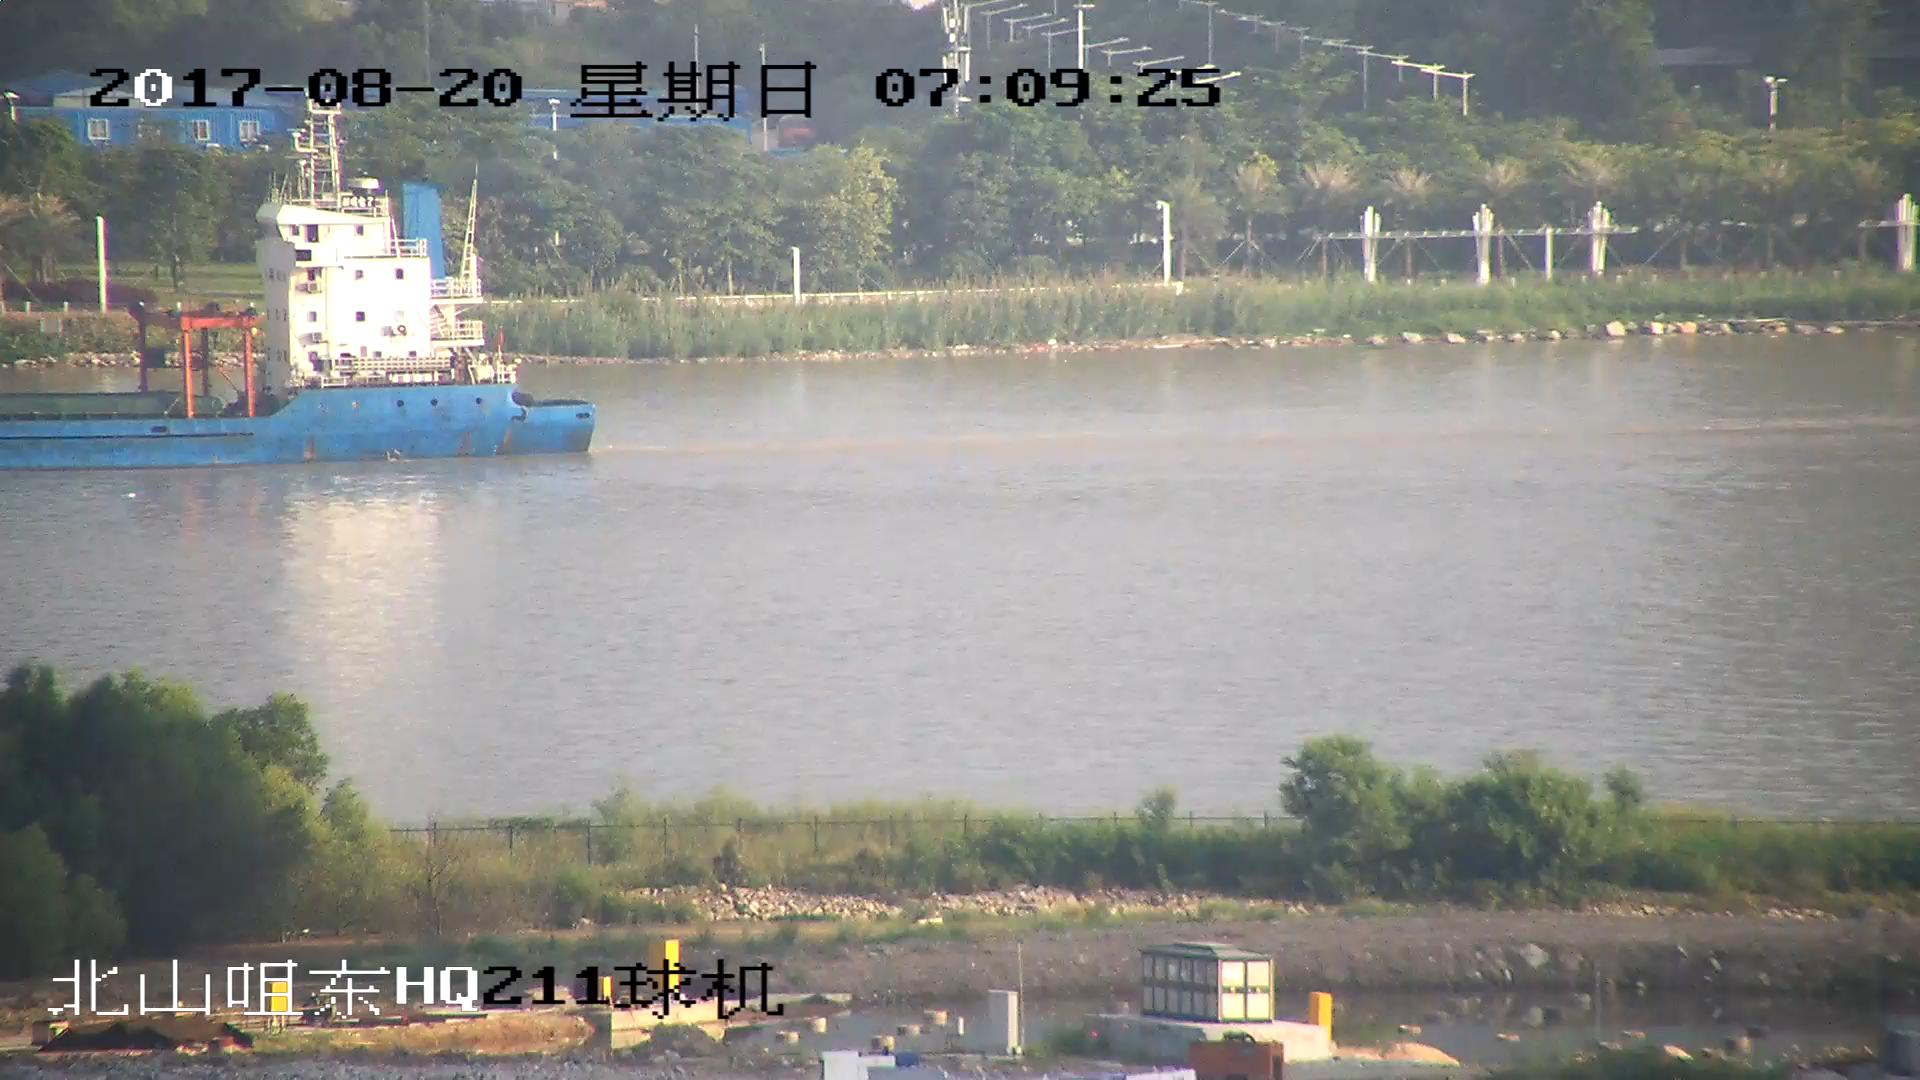general cargo ship: (1, 126, 599, 466)
